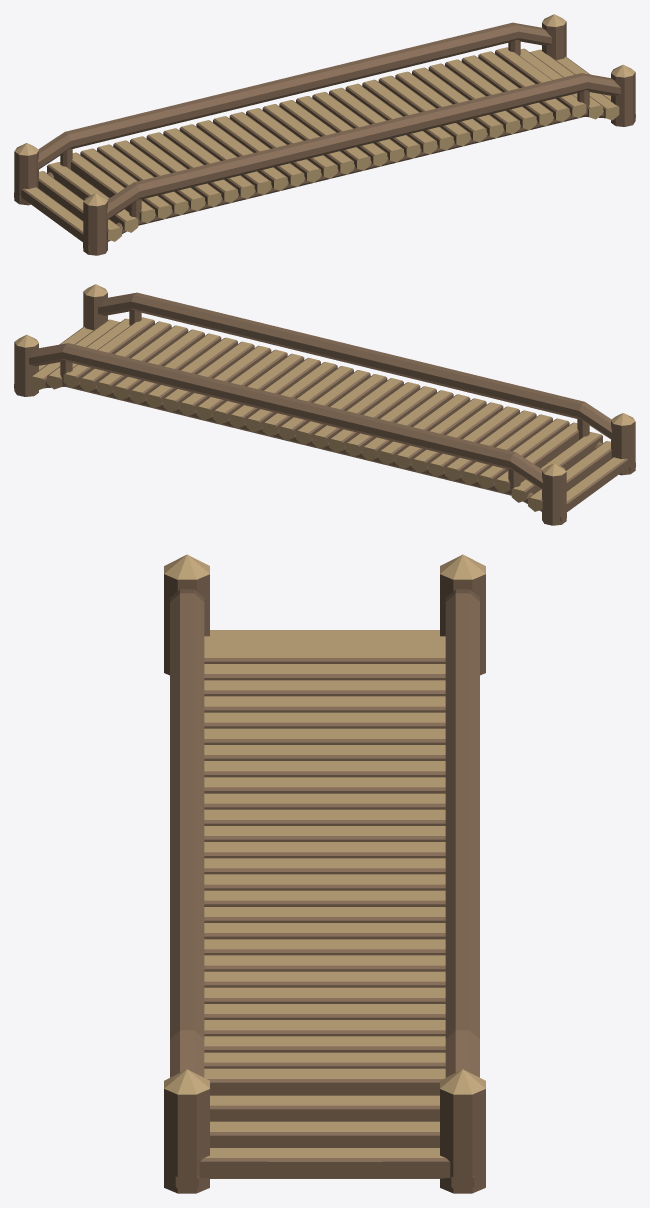
Rendered from LogBridgeOne.fbx.
3 renders of one model, top to bottom at view 1: azimuth 30°, elevation 25°; view 2: azimuth 150°, elevation 25°; view 3: azimuth 270°, elevation 25°, orthographic. The views are drawn at different scales.
Parts seen in each view (by area): view 1: mergedBlocks; view 2: mergedBlocks; view 3: mergedBlocks.
Part boxes in pixels (<box>): mergedBlocks: <box>14,14,635,255</box>; mergedBlocks: <box>14,284,635,525</box>; mergedBlocks: <box>164,554,485,1193</box>.
Size of the model in its own units: 110 by 11.01 by 28.
